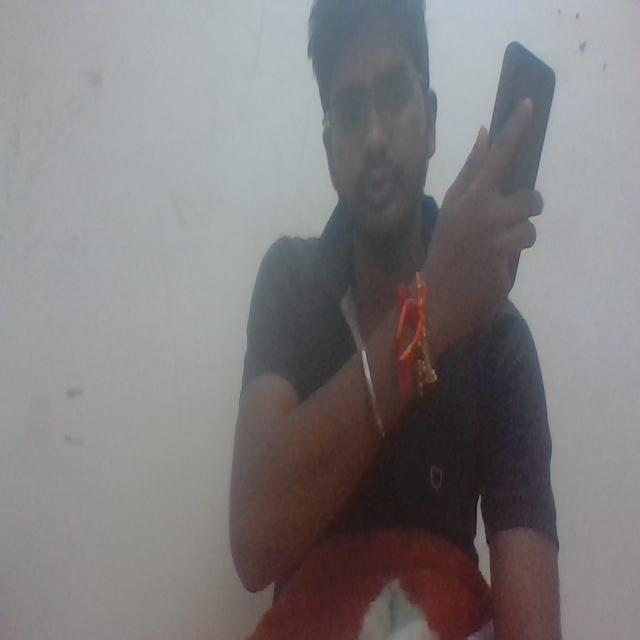Phone: (487, 38, 560, 282)
